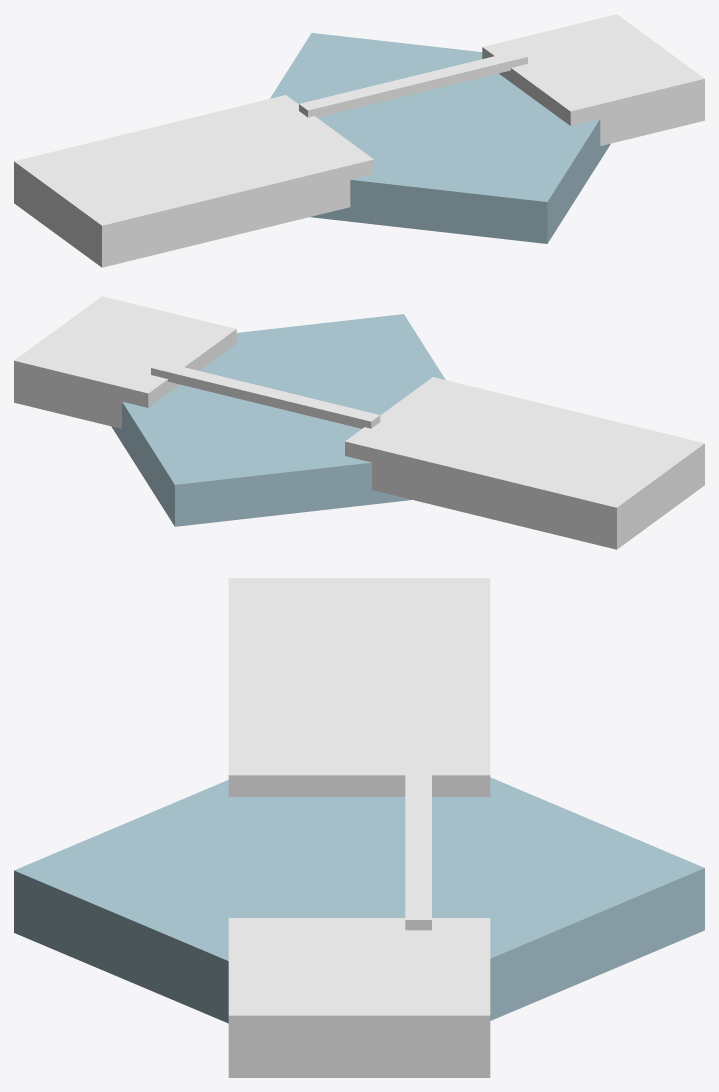
The model's file is Bridge.fbx.
3 views of the same model, one above another, from view 1: azimuth 30°, elevation 25°; view 2: azimuth 150°, elevation 25°; view 3: azimuth 270°, elevation 25° (orthographic). The views are drawn at different scales.
Parts seen in each view (by area): view 1: Water, GroundContinuation, Ground, Log; view 2: Water, GroundContinuation, Ground, Log; view 3: Water, GroundContinuation, Ground, Log.
Boxes of the visible parts, <box> form: Water: <box>270,33,610,243</box>; GroundContinuation: <box>14,95,373,267</box>; Ground: <box>482,14,704,145</box>; Log: <box>299,50,527,117</box>; Water: <box>111,314,445,526</box>; GroundContinuation: <box>345,377,704,549</box>; Ground: <box>14,296,236,428</box>; Log: <box>151,361,380,428</box>; Water: <box>14,777,704,1023</box>; GroundContinuation: <box>228,578,490,796</box>; Ground: <box>228,918,490,1077</box>; Log: <box>405,760,431,930</box>.
Size of the model in its own units: 752 by 75.69 by 502.
